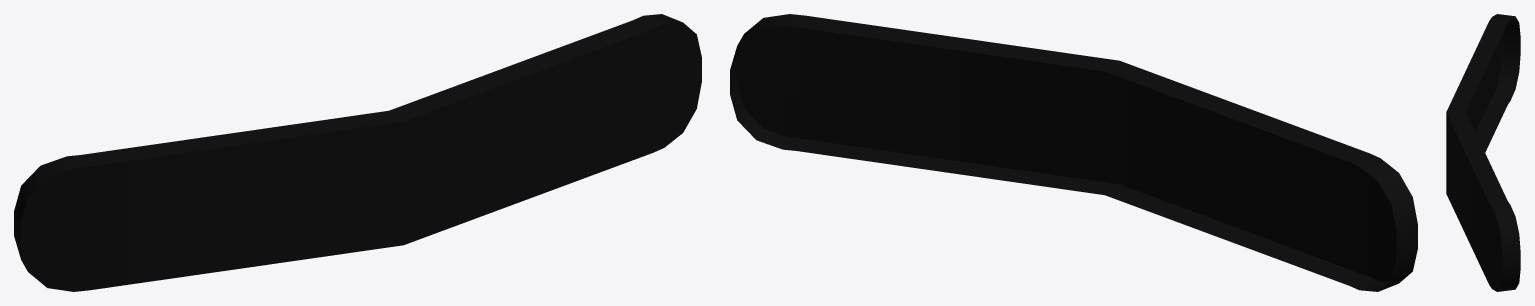
Rendered from Mouth_D_Neutral_01.fbx.
3 renders of one model, left to right at view 1: azimuth 30°, elevation 25°; view 2: azimuth 150°, elevation 25°; view 3: azimuth 270°, elevation 25°, orthographic. The views are drawn at different scales.
Parts seen in each view (by area): view 1: Mouth_D_Neutral_01; view 2: Mouth_D_Neutral_01; view 3: Mouth_D_Neutral_01.
Boxes of the visible parts, x1,y1,x2,y2 form: Mouth_D_Neutral_01: (14,14,701,291); Mouth_D_Neutral_01: (730,14,1417,291); Mouth_D_Neutral_01: (1446,14,1520,291).
Bounding box in the file's own units: 40.48 × 7.03 × 5.79.
